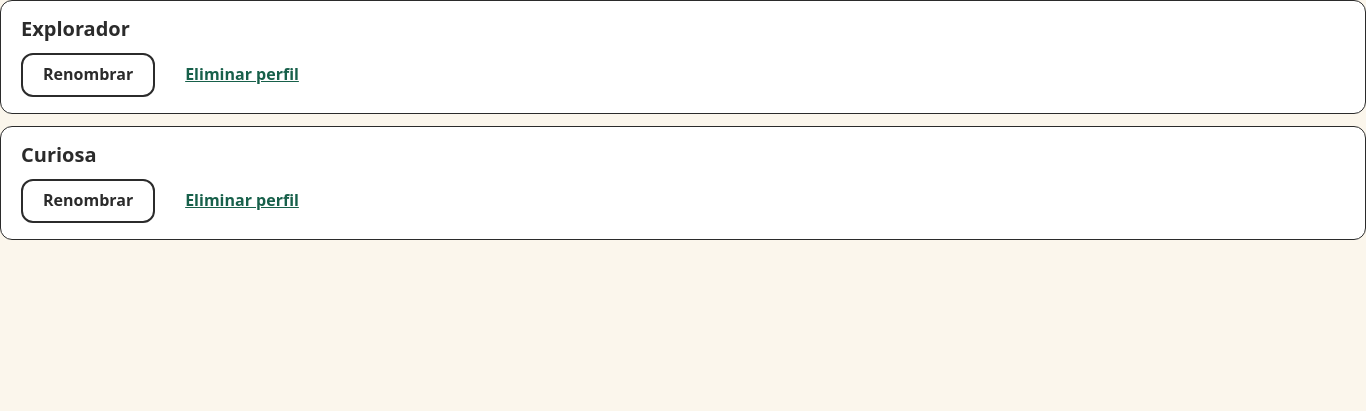
Test case: GestionEstudiantes › muestra el error de un renombrado rechazado
Click the button "Renombrar" below "Explorador": x=88, y=75 [21,53,155,97]
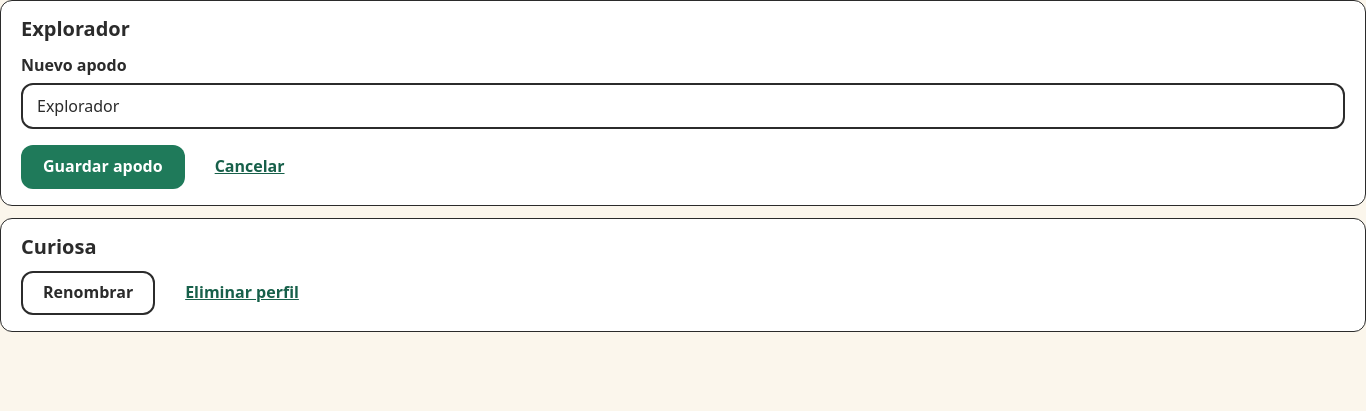
Click the button "Guardar apodo": x=103, y=167 [21,145,185,189]
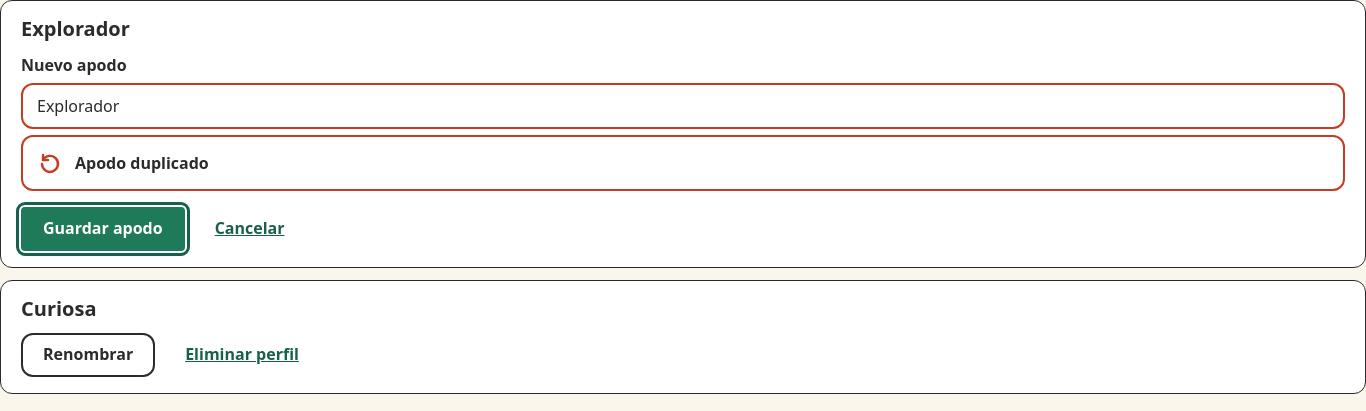
Now the message reads "Apodo duplicado", box [75,152,209,174]
